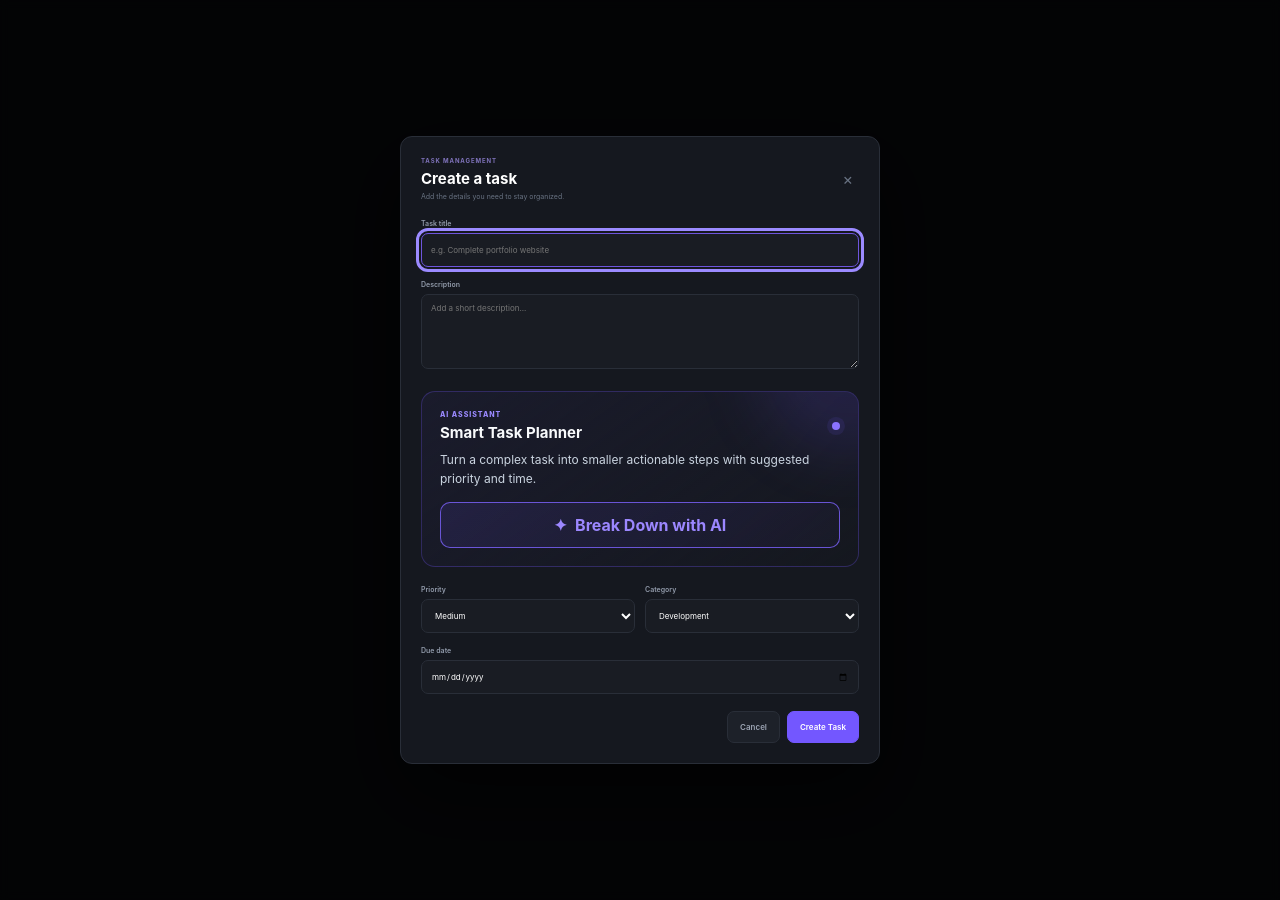
Test: TaskModal › requests AI subtasks and displays the generated plan
The width and height of the screenshot is (1280, 900).
Type "Prepare portfolio submission" into the field labelled "Task title". click: (640, 250)
box: top-left (421, 233), bottom-right (859, 267)
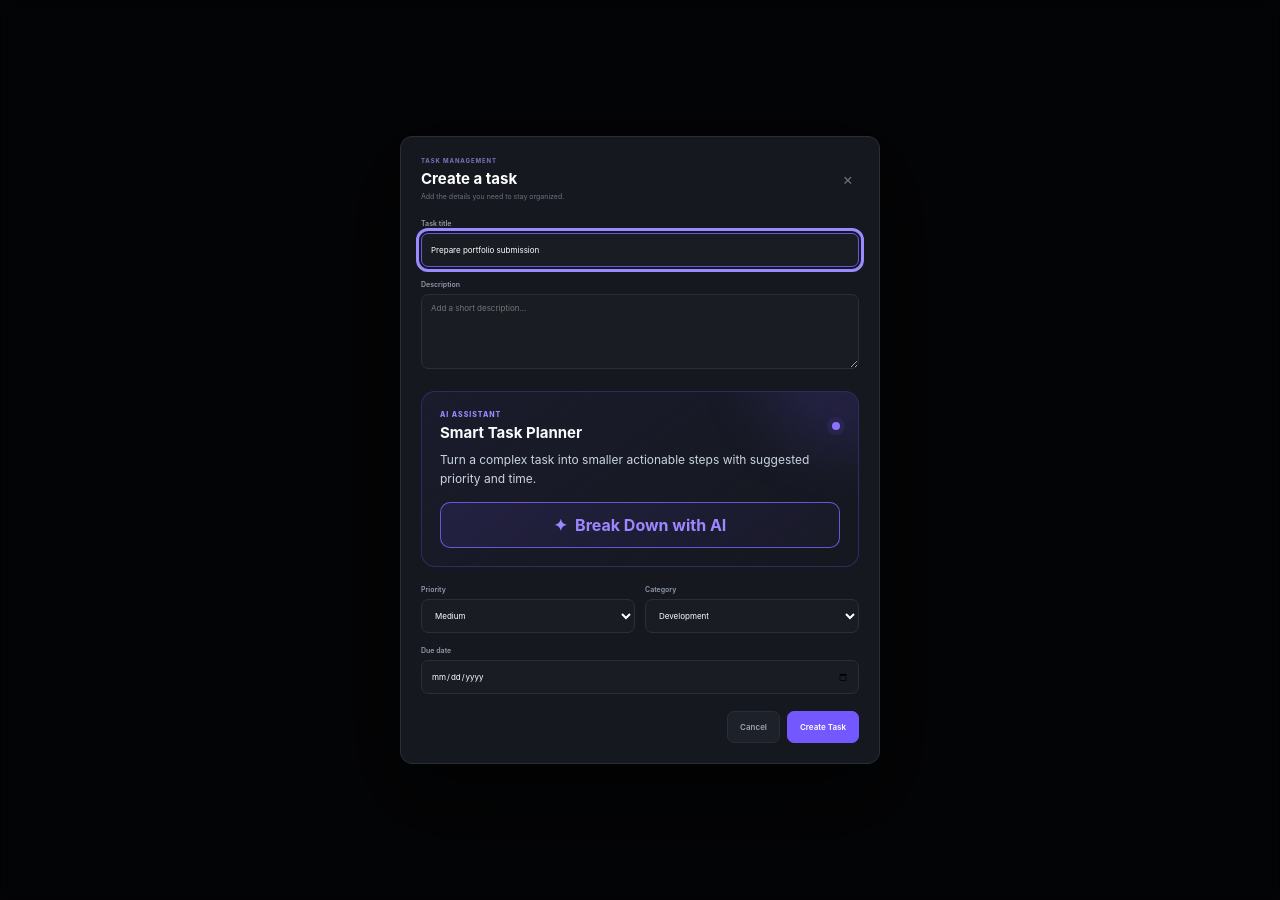
Type "Review and prepare the portfolio." into the text box labelled "Description". click: (640, 331)
box: top-left (421, 294), bottom-right (859, 369)
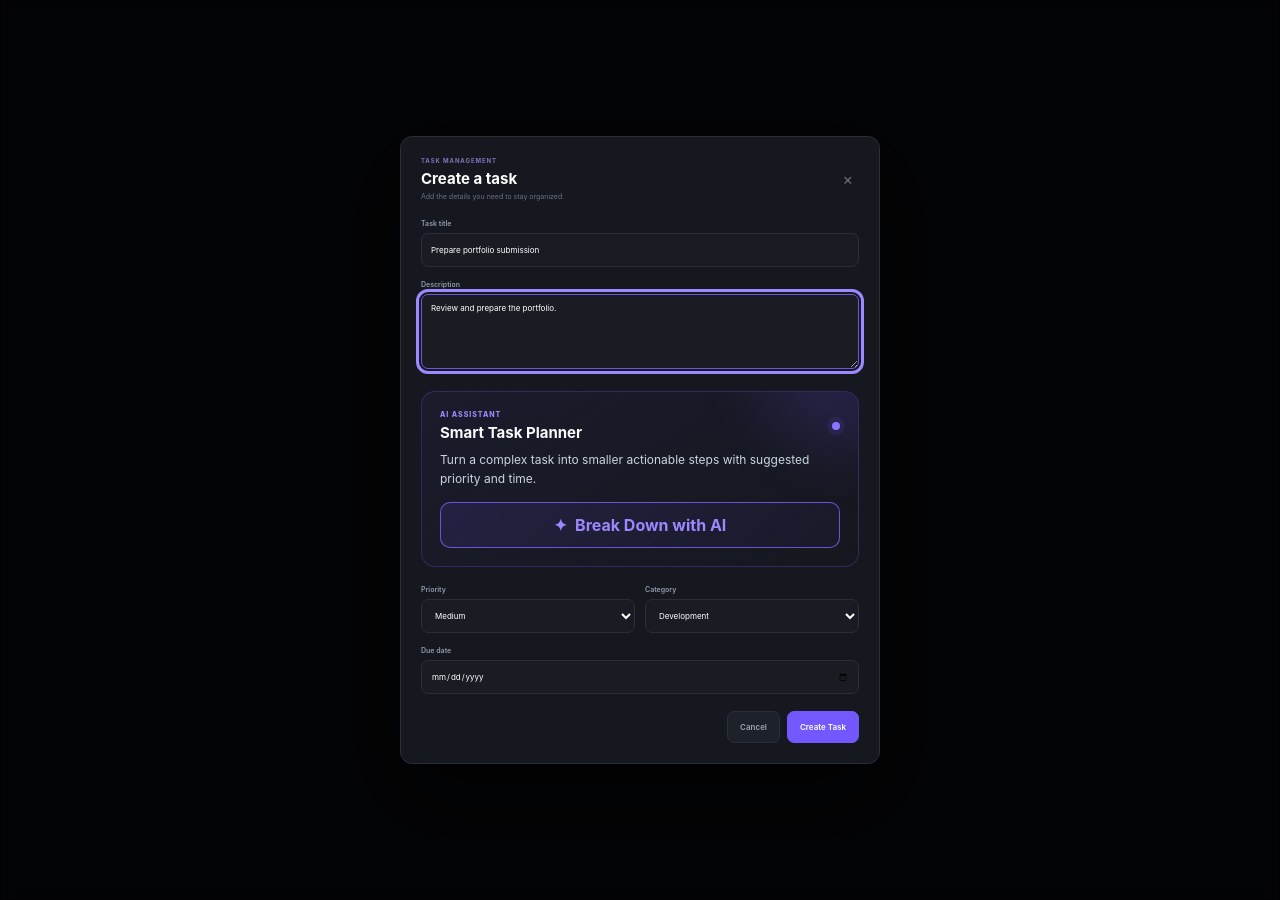
Click the button "✦ Break Down with AI". click: (640, 525)
box: top-left (440, 502), bottom-right (840, 548)
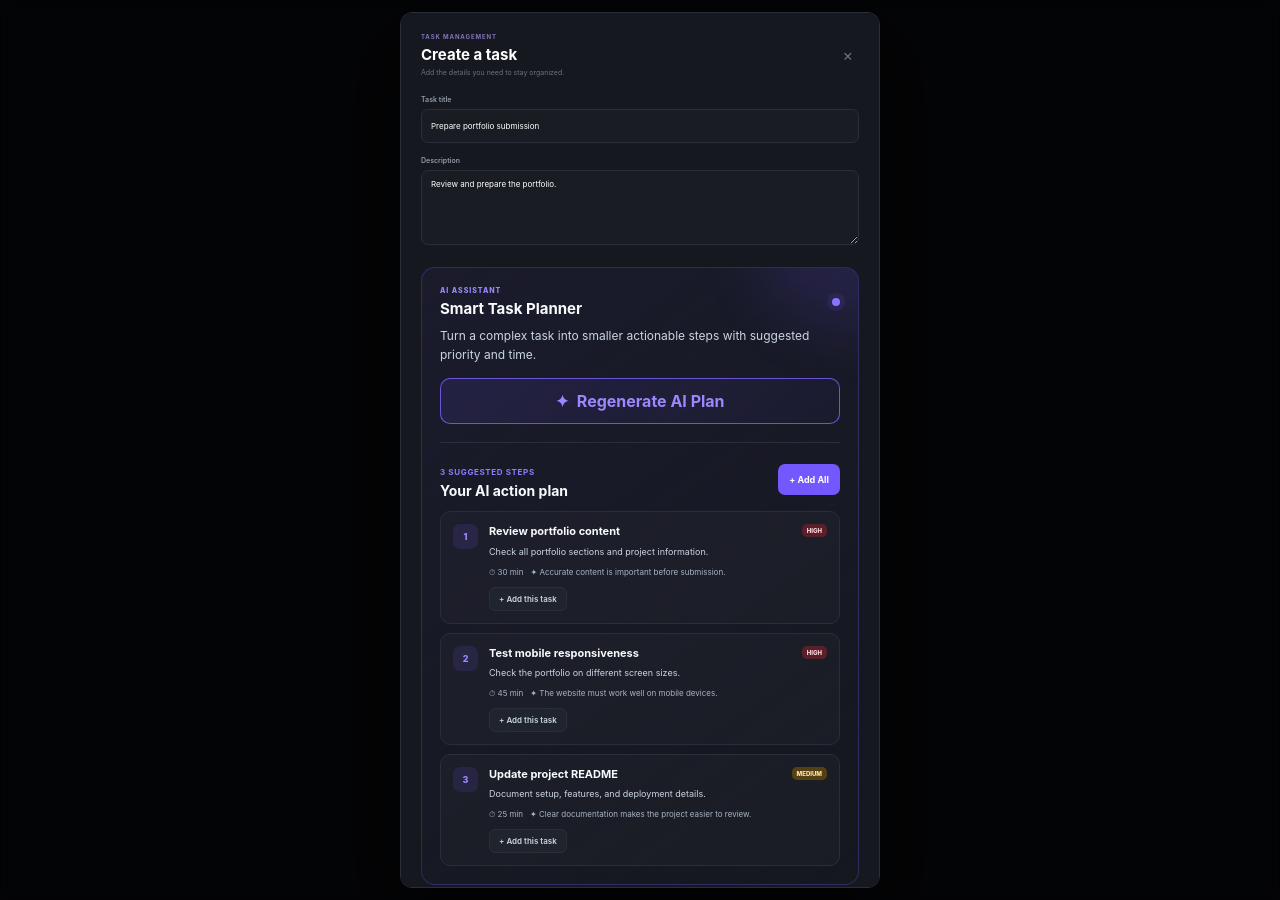
Result: the heading "Review portfolio content" is shown at top-left (489, 524), bottom-right (620, 540)
Result: the heading "Test mobile responsiveness" is shown at top-left (489, 646), bottom-right (639, 661)
Result: the heading "Update project README" is shown at top-left (489, 767), bottom-right (618, 782)
